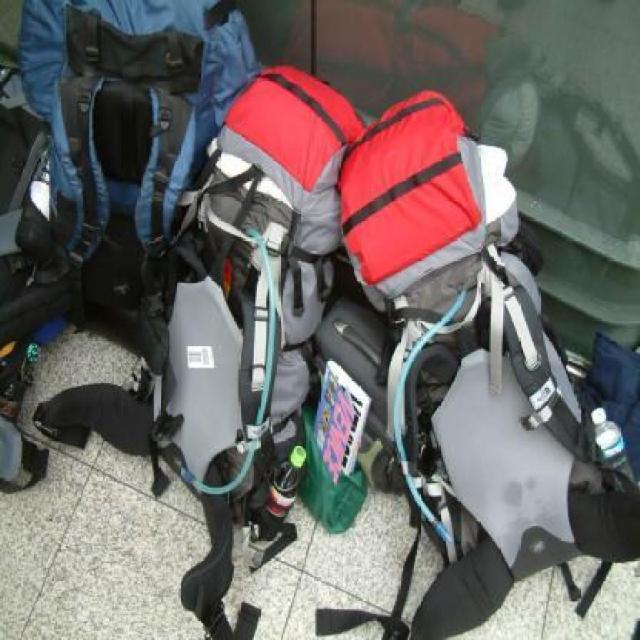backpack: (387, 284, 640, 638), (8, 0, 238, 297), (337, 86, 525, 294), (212, 63, 340, 257)
